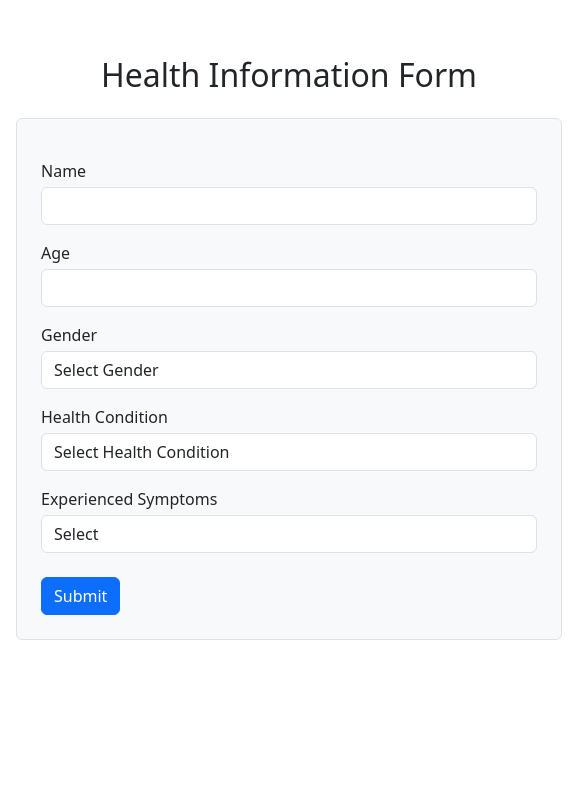
Scenario: MyForm Component › validates form for chronic illness where symptoms and chronic conditions are not filled
Type "Jim Doe" into the field labelled "Name" at (289, 206), box [41,187,537,225]
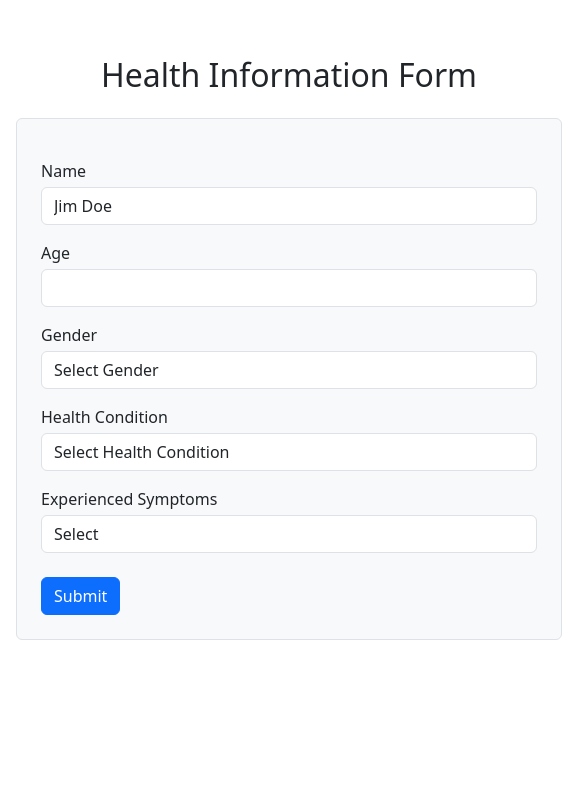
Type "40" into the number field labelled "Age" at (289, 288), box [41,269,537,307]
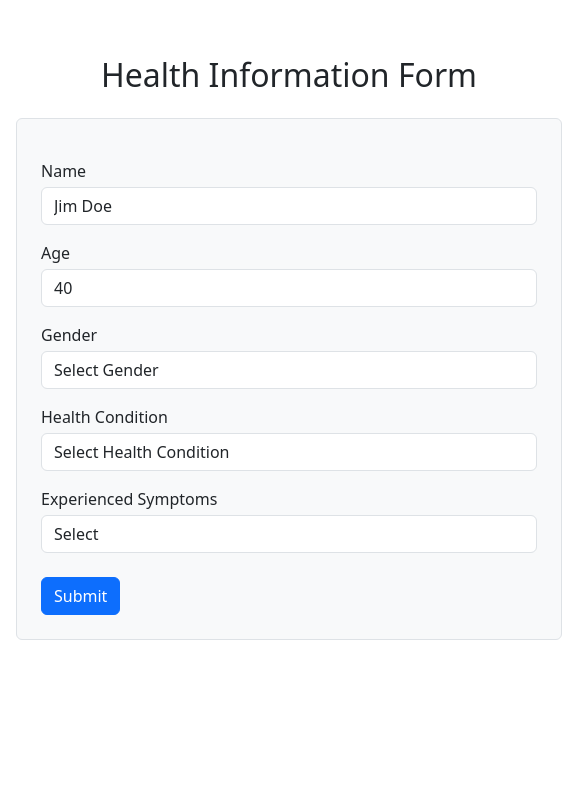
Select "Diverse" in the dropdown labelled "Gender" at (289, 370), box [41,351,537,389]
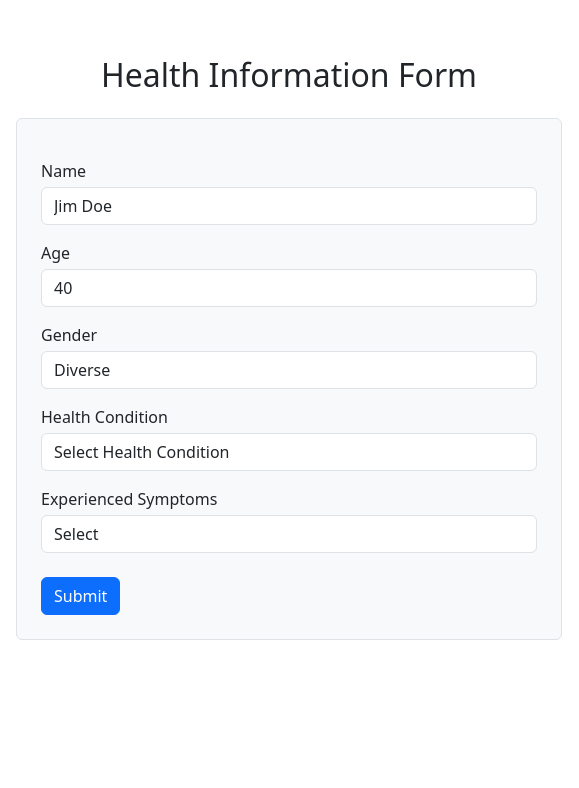
Select "Chronic illness" in the dropdown labelled "Health Condition" at (289, 452), box [41,433,537,471]
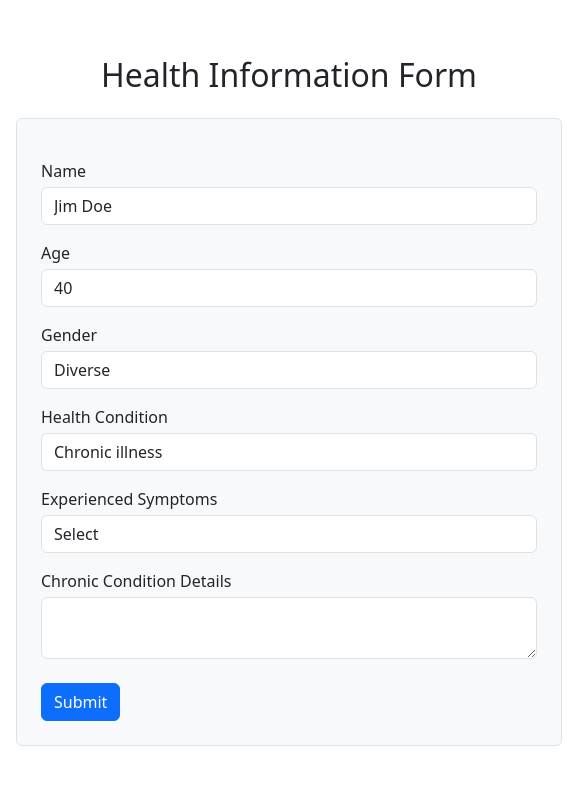
Select "Yes" in the dropdown labelled "Experienced Symptoms" at (289, 534), box [41,515,537,553]
(page scrolled)
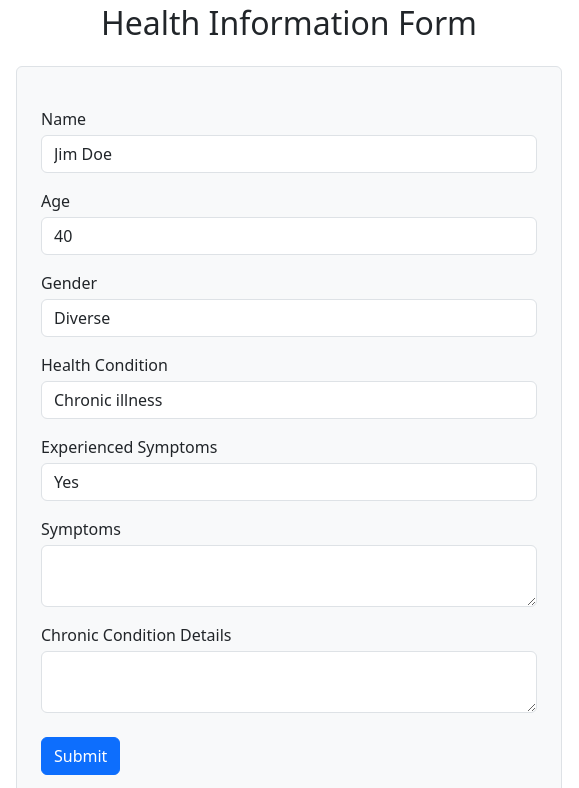
Click the button "Submit" at (81, 756), box [41,737,120,775]
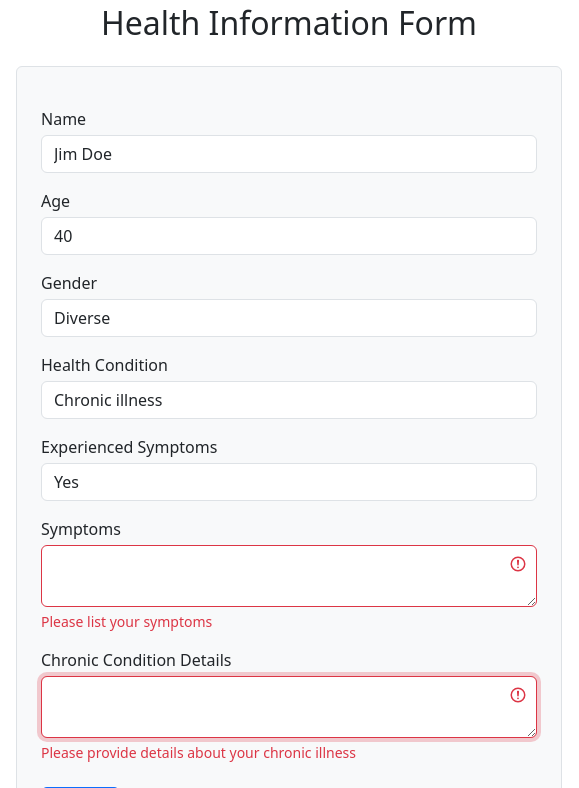
Expected: the text "Please list your symptoms" is shown, [41,612,212,631]
Expected: the text "Please provide details about your chronic illness" is shown, [41,743,356,762]
